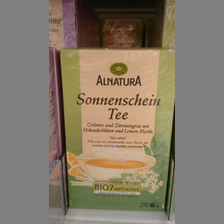tea: (59, 46, 174, 212)
